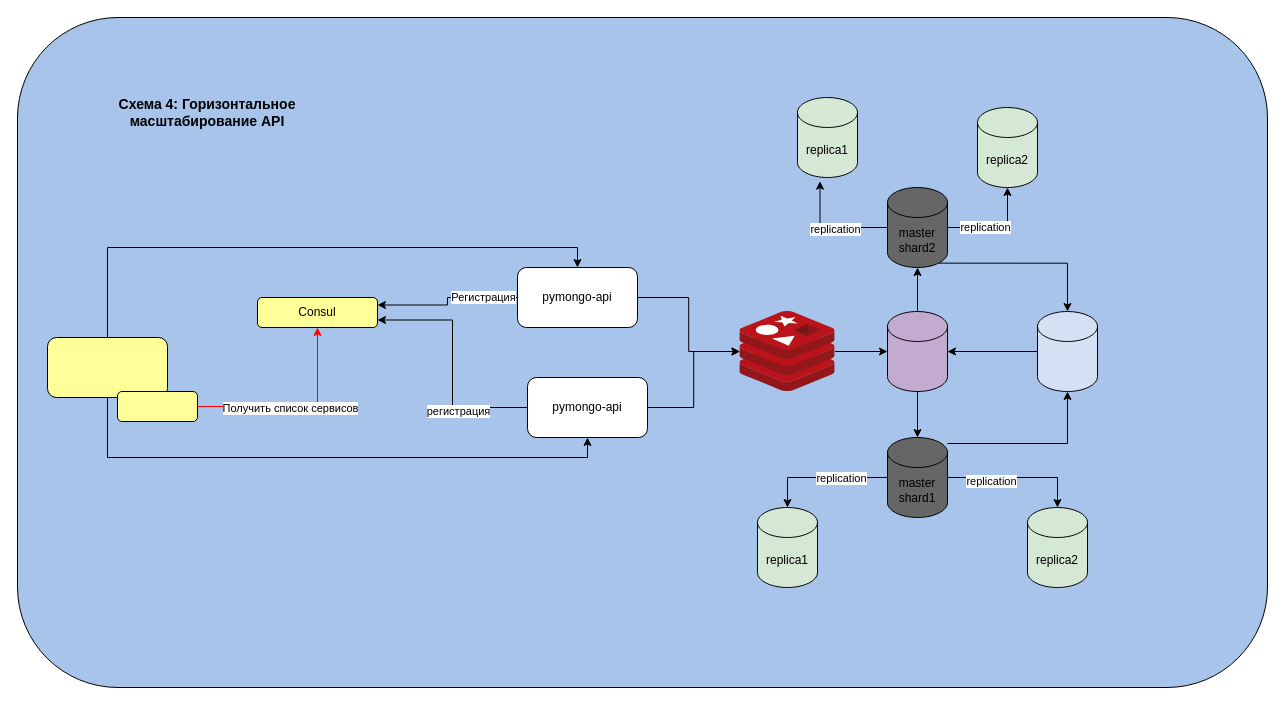
Image size: 1285x705. Some labels were removed from this diagram. The shapes that lost their labels are listed below. From the top down, each one's centre as x and y in pixels, then its label:
At (x=107, y=367): "APISIX gateway".
At (x=787, y=351): "Redis".
At (x=917, y=351): "mongos-router".
At (x=1067, y=351): "configSrv".
At (x=157, y=406): "Consul-kv".
